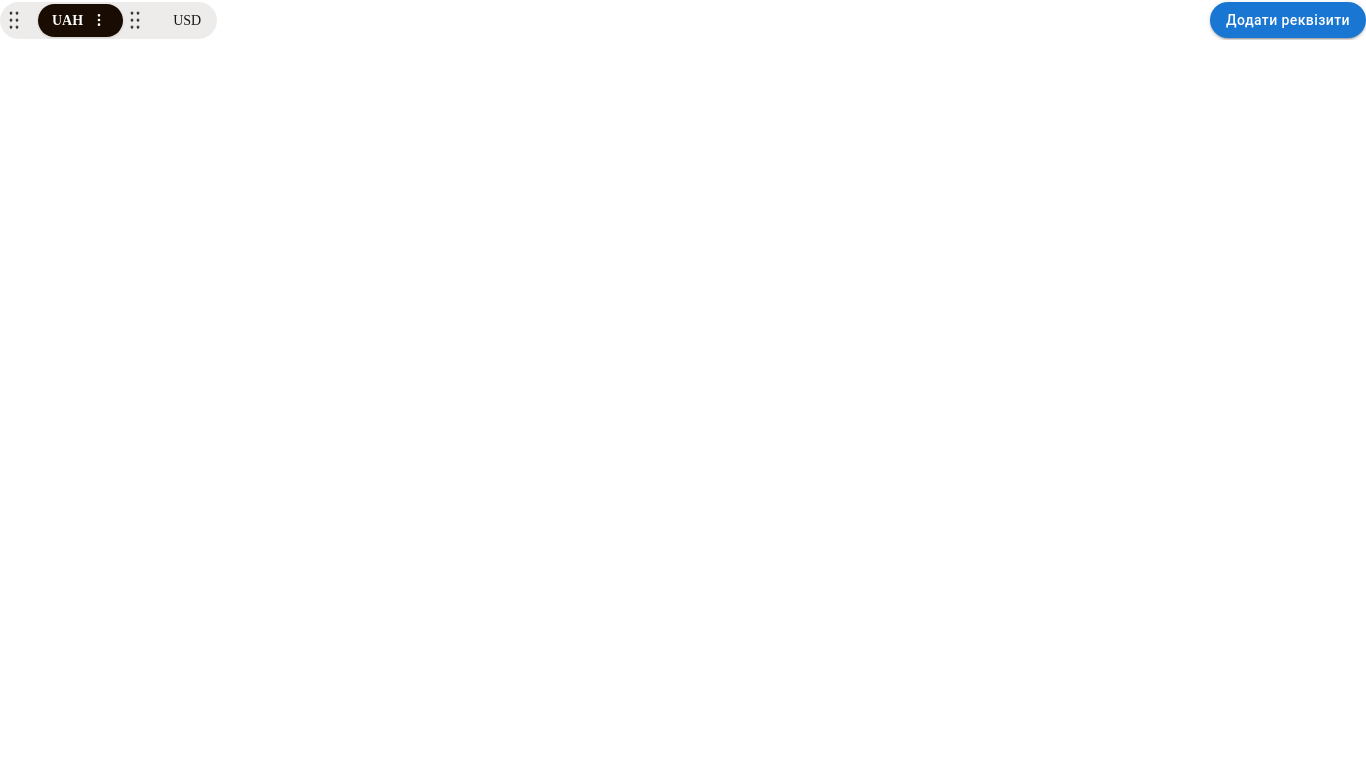
Test: CurrencyTabs › opens confirmation modal on delete click and calls onDeleteTab after confirmation
Later steps or results of the test are not shown.
Click the button named "Опції реквізиту" at coordinates (99, 20), box [89, 10, 109, 30]
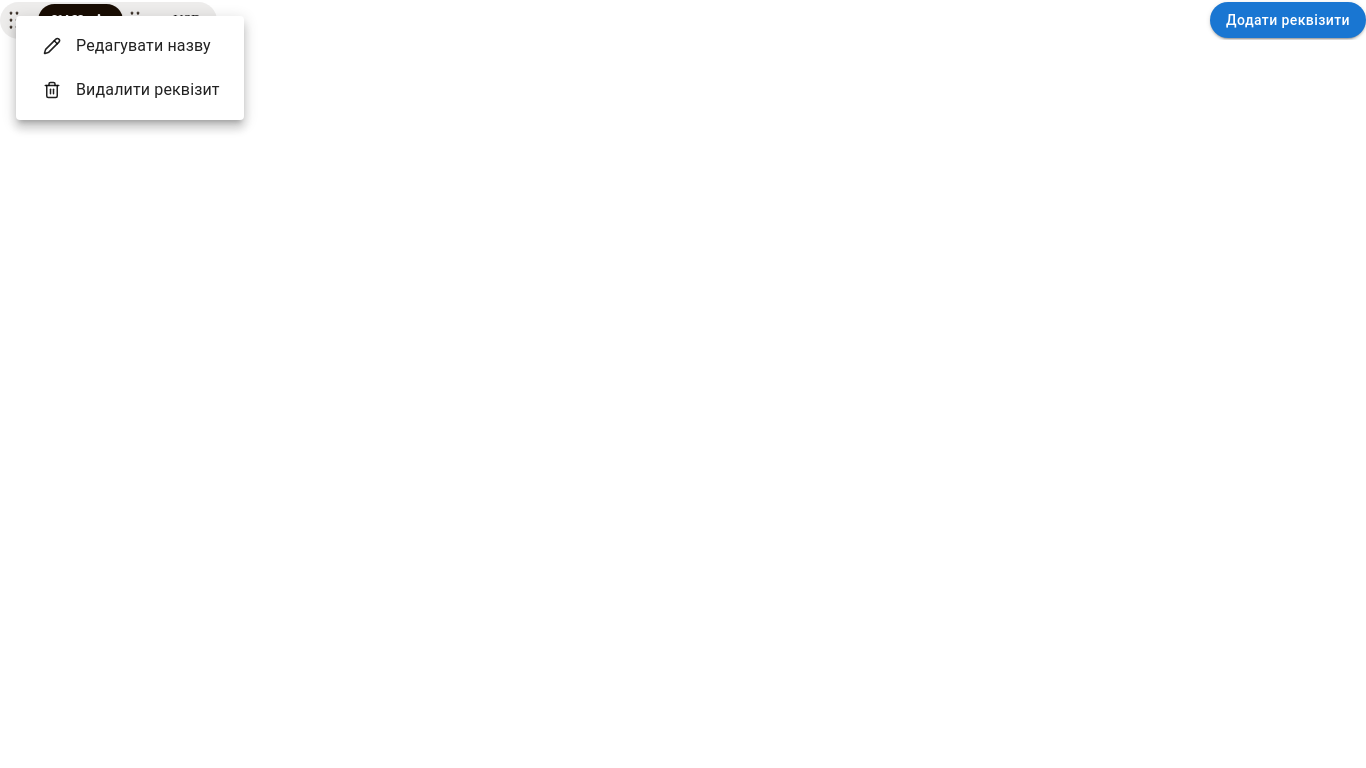
Click the menu item "Видалити реквізит" at coordinates (131, 90), box [43, 80, 220, 99]
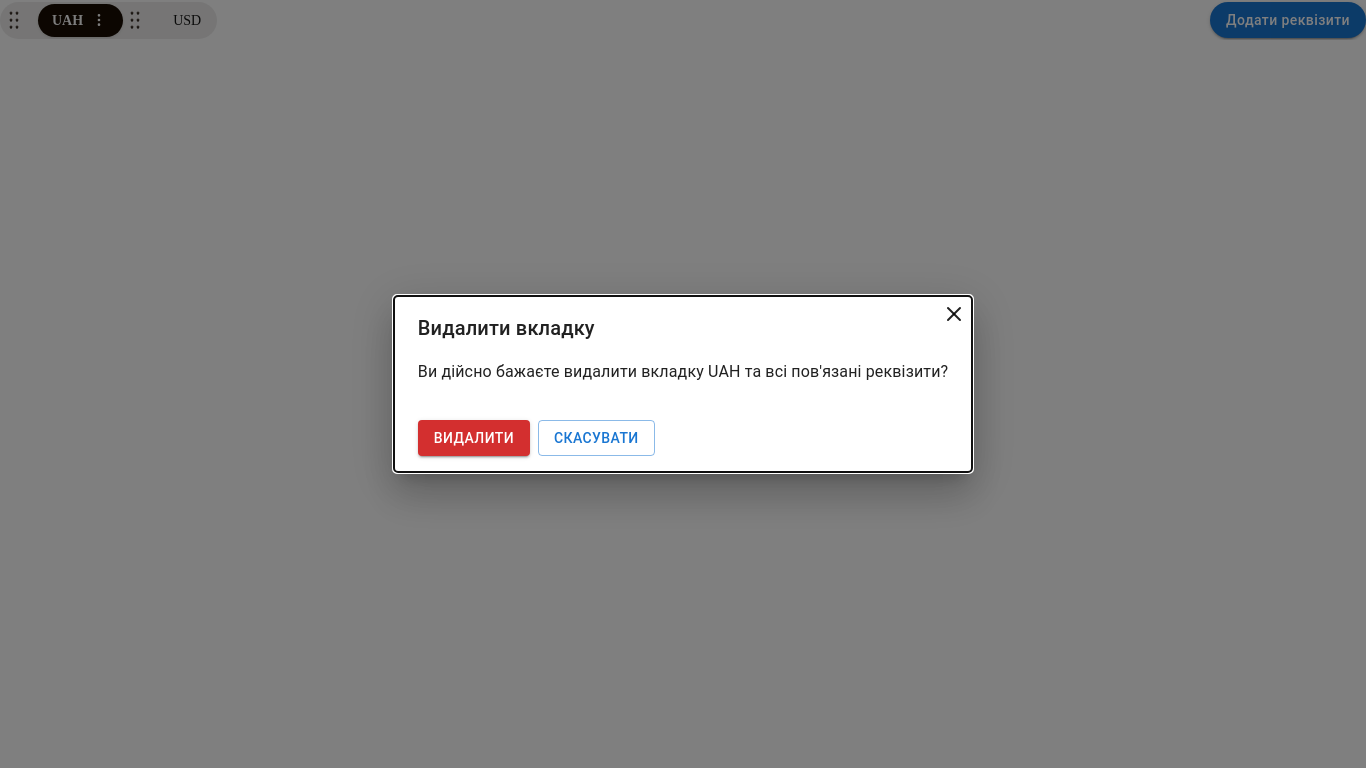
Expected: the heading "Видалити вкладку" is shown, [418, 316, 595, 340]
